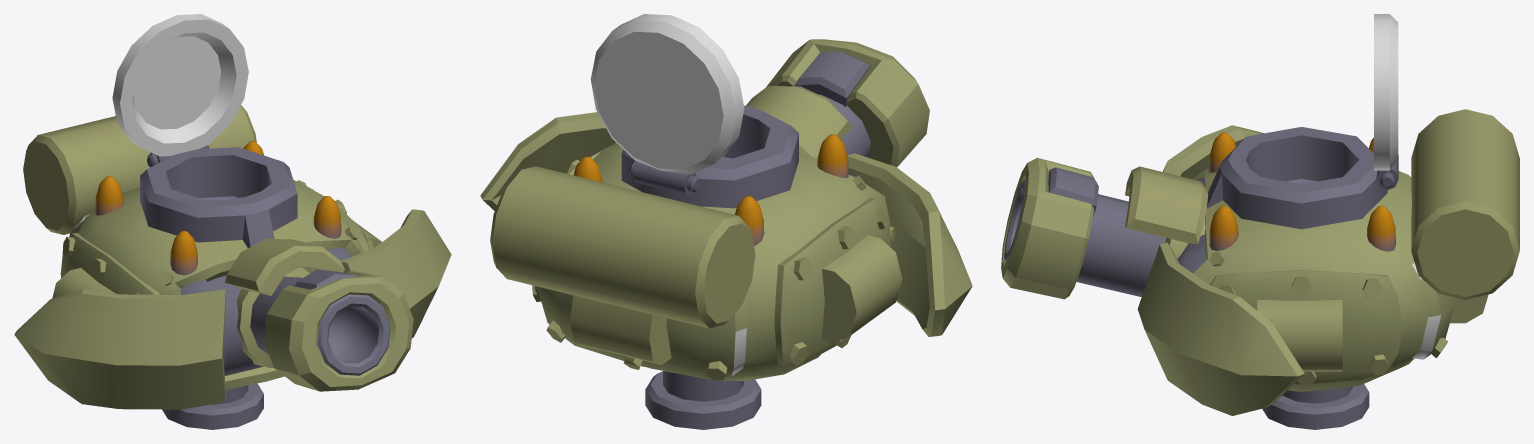
Rendered from Plouger_2_LP.fbx.
3 views of the same model, side by side, from view 1: azimuth 30°, elevation 25°; view 2: azimuth 150°, elevation 25°; view 3: azimuth 270°, elevation 25° (orthographic). The views are drawn at different scales.
Visible parts, largest first — view 1: Plouger_2_Base, Plouger_2, Plouger_2_Cap; view 2: Plouger_2_Base, Plouger_2_Cap, Plouger_2; view 3: Plouger_2_Base, Plouger_2, Plouger_2_Cap.
Boxes of the visible parts, bbox=[...] form: Plouger_2_Base: bbox=[14, 105, 451, 429]; Plouger_2: bbox=[208, 238, 413, 391]; Plouger_2_Cap: bbox=[112, 14, 248, 156]; Plouger_2_Base: bbox=[480, 105, 972, 429]; Plouger_2_Cap: bbox=[590, 14, 744, 174]; Plouger_2: bbox=[746, 39, 929, 174]; Plouger_2_Base: bbox=[1137, 109, 1519, 429]; Plouger_2: bbox=[1001, 158, 1208, 299]; Plouger_2_Cap: bbox=[1374, 14, 1398, 170].
Size of the model in its own units: 204 by 173 by 211.
